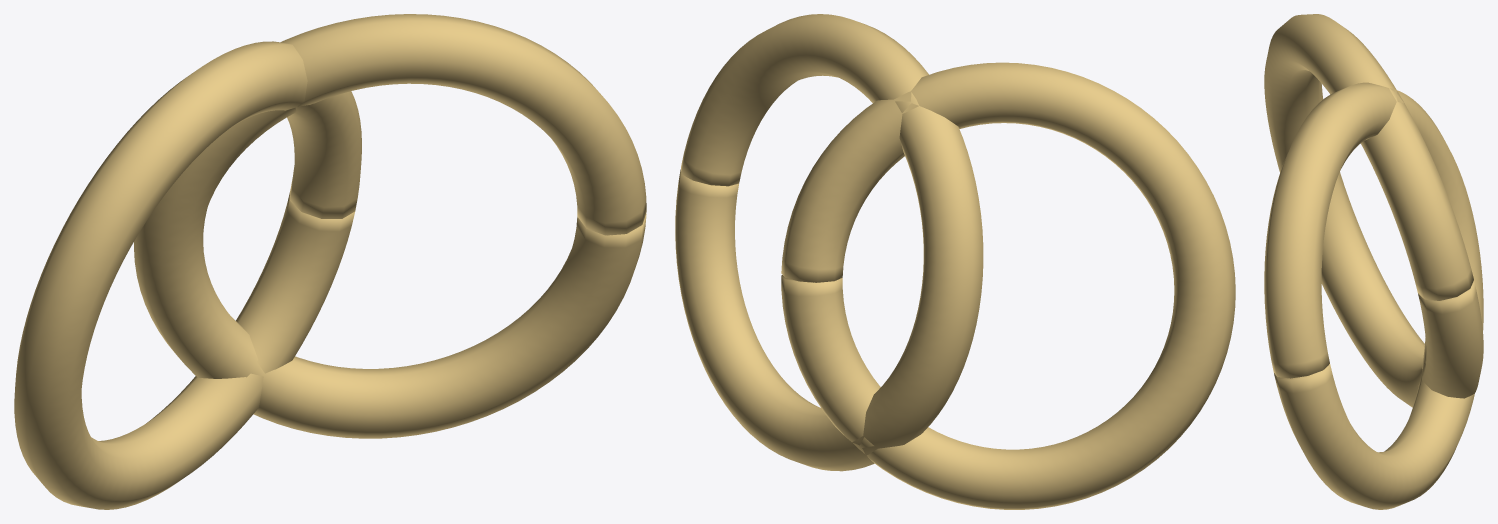
The model's file is wedding-rings.glb.
3 renders of one model, left to right at view 1: azimuth 30°, elevation 25°; view 2: azimuth 150°, elevation 25°; view 3: azimuth 270°, elevation 25°, orthographic. The views are drawn at different scales.
Parts seen in each view (by area): view 1: ring-right-1, ring-left-0; view 2: ring-left-0, ring-right-1; view 3: ring-left-0, ring-right-1.
Part boxes in pixels (x1,y1,x2,y2): ring-right-1: (134, 14, 646, 438); ring-left-0: (14, 41, 361, 509); ring-left-0: (781, 62, 1235, 509); ring-right-1: (675, 14, 983, 471); ring-left-0: (1264, 14, 1483, 407); ring-right-1: (1264, 82, 1483, 509).
Bounding box in the file's own units: 1.53 × 1.08 × 0.5692.
